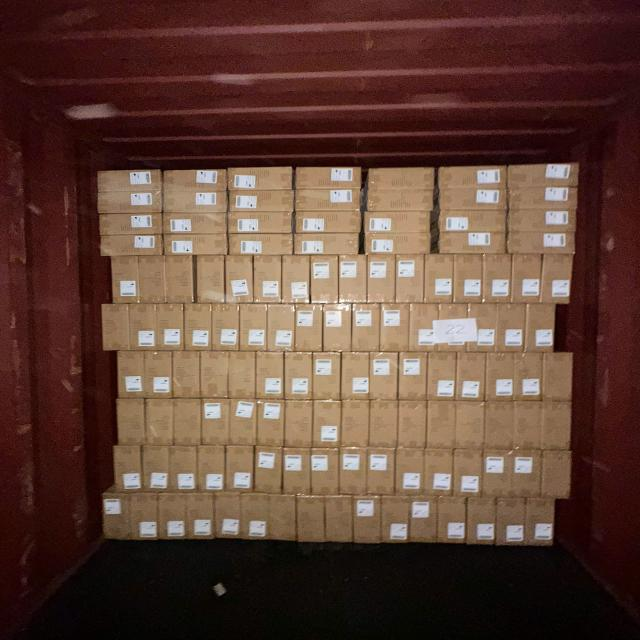Carton: (504, 161, 582, 208), (508, 211, 580, 254), (363, 169, 434, 211), (437, 212, 508, 254), (506, 205, 577, 235), (434, 166, 506, 195), (503, 229, 575, 256), (435, 208, 506, 235), (436, 186, 506, 213), (163, 167, 230, 193), (97, 168, 164, 194), (494, 497, 528, 548), (99, 210, 165, 236), (435, 232, 506, 256), (163, 192, 230, 217), (297, 190, 366, 214), (98, 192, 167, 216), (101, 231, 167, 256), (510, 255, 542, 306), (294, 210, 362, 234), (364, 210, 432, 234), (298, 169, 366, 193), (227, 169, 292, 194), (511, 449, 544, 498), (227, 191, 294, 215), (542, 256, 574, 306), (540, 401, 572, 451), (100, 493, 132, 543), (230, 210, 296, 234), (542, 449, 574, 498), (128, 494, 160, 543), (438, 304, 470, 353), (528, 500, 559, 550), (482, 254, 512, 305), (543, 354, 574, 403), (363, 234, 432, 256), (394, 447, 424, 497), (394, 256, 424, 306), (351, 304, 381, 354), (524, 304, 554, 354), (197, 255, 227, 305), (486, 354, 516, 404), (455, 354, 485, 404), (513, 401, 543, 451), (468, 304, 498, 354), (294, 234, 362, 256), (165, 233, 230, 256), (231, 233, 296, 256), (112, 444, 143, 492), (437, 498, 468, 546), (397, 353, 427, 402), (423, 255, 453, 304), (484, 402, 514, 451), (423, 448, 453, 497), (166, 256, 196, 305), (352, 496, 382, 545), (381, 497, 411, 546), (482, 449, 512, 498), (238, 493, 268, 542), (397, 400, 426, 450), (257, 350, 286, 400), (454, 255, 483, 305), (313, 400, 342, 450), (311, 256, 340, 306), (453, 448, 482, 498), (324, 496, 353, 546), (144, 399, 174, 447), (369, 352, 399, 400), (465, 498, 495, 546), (116, 398, 146, 446), (158, 494, 188, 542), (297, 497, 327, 545), (167, 212, 232, 234), (426, 354, 455, 403), (367, 447, 396, 496), (381, 304, 410, 353), (370, 400, 399, 449), (339, 256, 368, 305), (311, 448, 340, 497), (226, 256, 255, 305), (409, 304, 438, 353), (185, 303, 214, 352), (454, 403, 484, 450), (185, 495, 215, 542), (254, 256, 282, 306), (284, 400, 312, 450), (282, 256, 310, 306), (342, 400, 370, 450), (230, 352, 258, 402), (498, 304, 526, 354), (366, 255, 394, 305), (322, 305, 351, 353), (201, 352, 230, 400), (312, 352, 341, 400), (227, 445, 256, 493), (254, 446, 283, 494), (170, 446, 199, 494), (113, 257, 142, 305), (426, 401, 454, 450), (342, 353, 370, 402), (296, 304, 324, 353), (340, 447, 368, 496), (117, 352, 145, 401), (158, 303, 186, 352), (144, 352, 172, 401), (515, 354, 543, 403), (269, 495, 297, 544), (409, 498, 438, 545), (282, 448, 310, 496), (240, 304, 268, 352), (202, 398, 230, 446), (258, 400, 286, 448), (174, 399, 202, 447), (130, 303, 158, 351), (231, 399, 259, 447), (102, 303, 130, 351), (285, 353, 312, 402), (173, 352, 200, 401), (214, 495, 242, 542), (269, 304, 296, 352), (212, 304, 239, 352), (139, 256, 166, 304), (200, 446, 228, 492), (144, 446, 172, 492)
